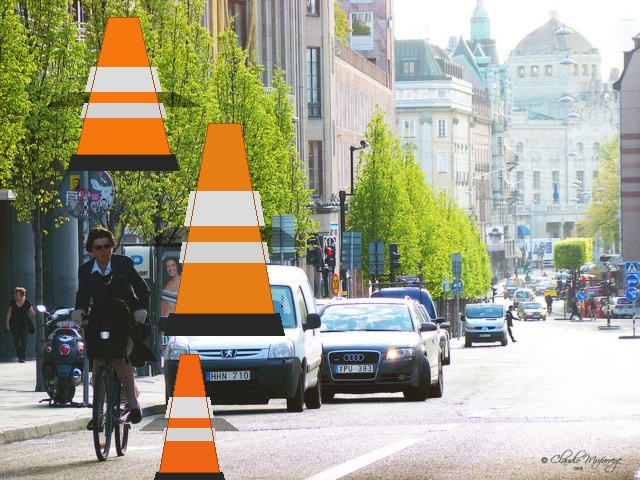traffic-cone: (164, 123, 284, 335), (67, 17, 179, 170), (153, 354, 225, 479)
